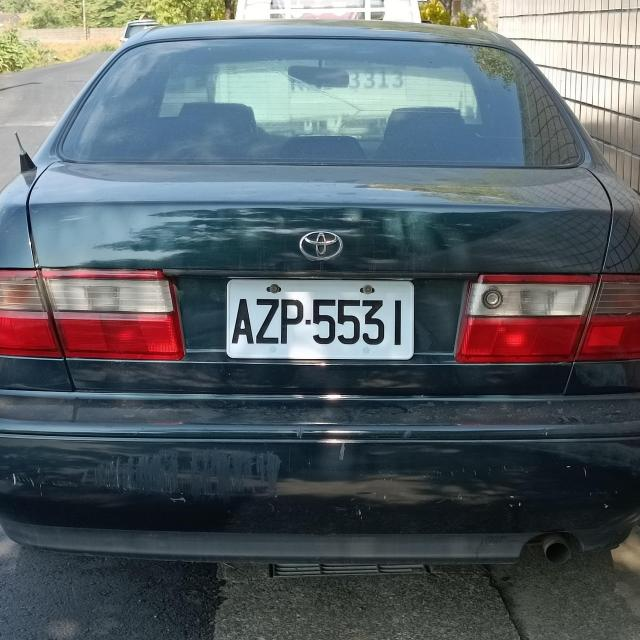W: (225, 279, 413, 360)
